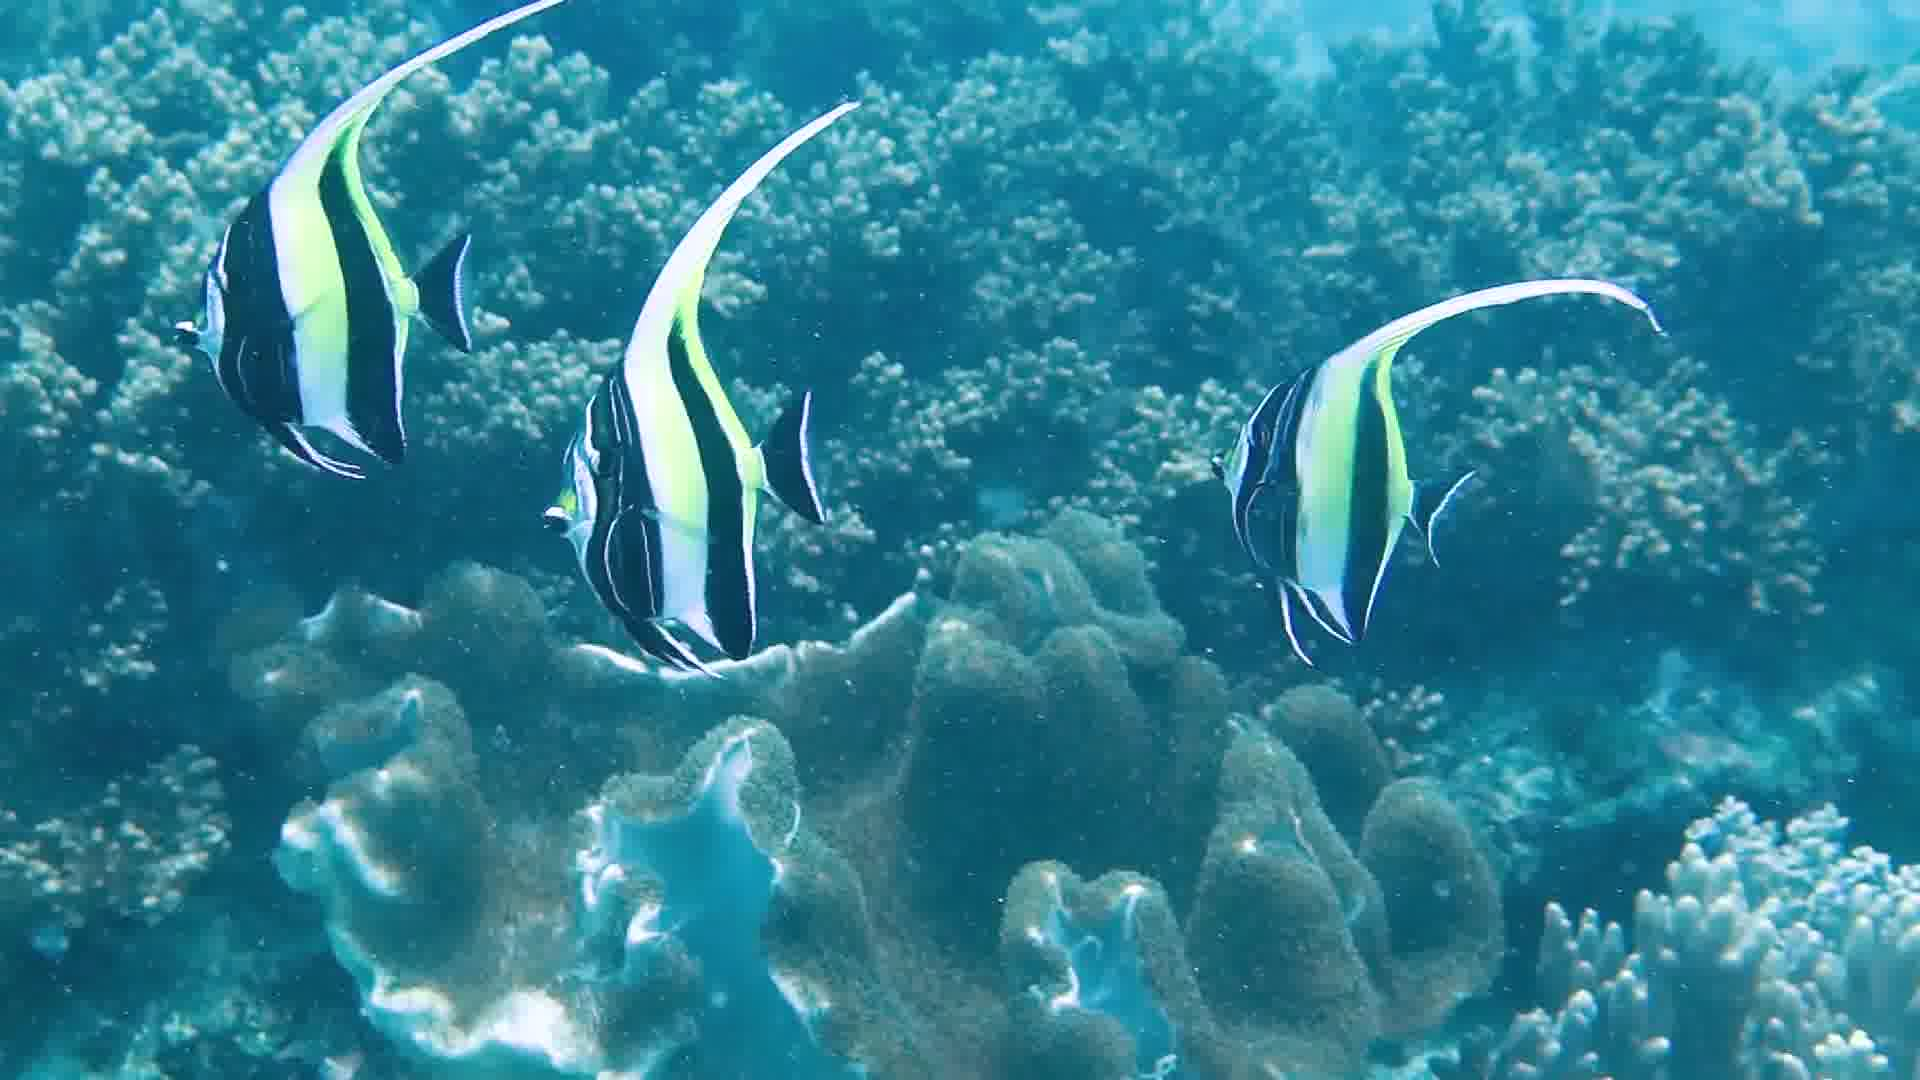Zanclus cornutus: (181, 113, 480, 505), (541, 274, 839, 665), (1213, 280, 1472, 649)
